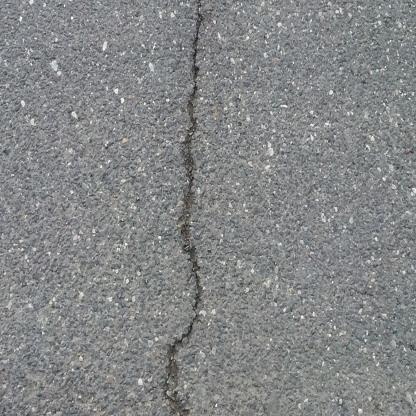Cracks: (162, 0, 207, 416)
